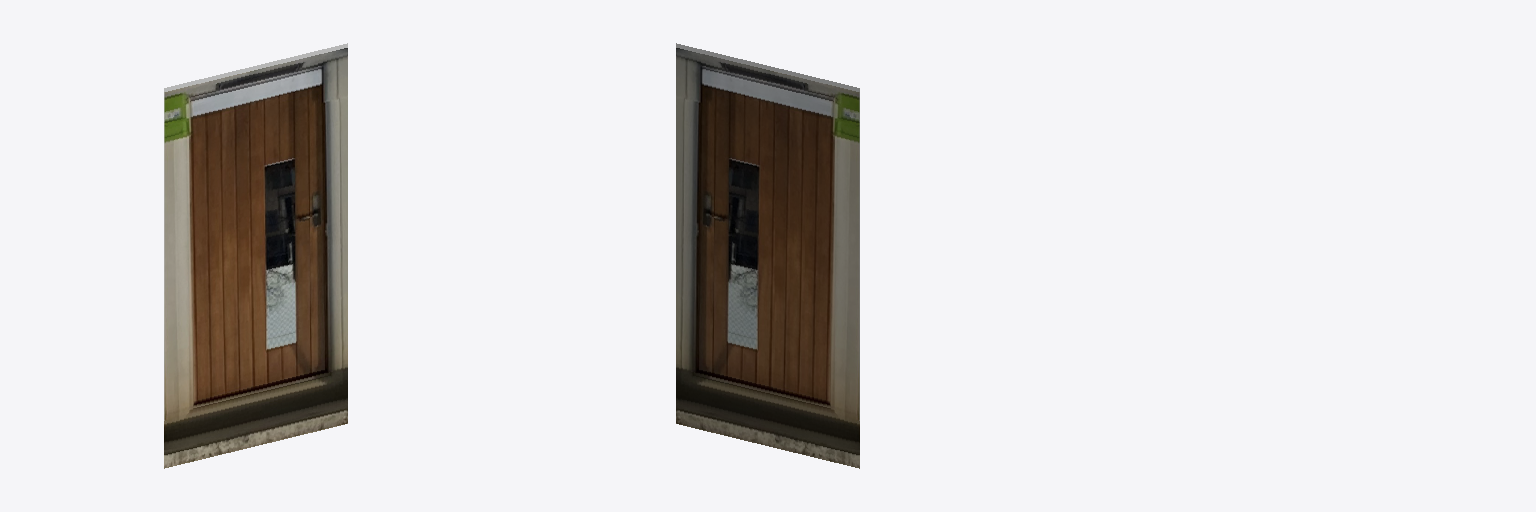
3 views of the same model, side by side, from view 1: azimuth 30°, elevation 25°; view 2: azimuth 150°, elevation 25°; view 3: azimuth 270°, elevation 25° (orthographic).
Bounding box in the file's own units: 249 × 490 × 0.
Materials: 1 (1 with a texture image).